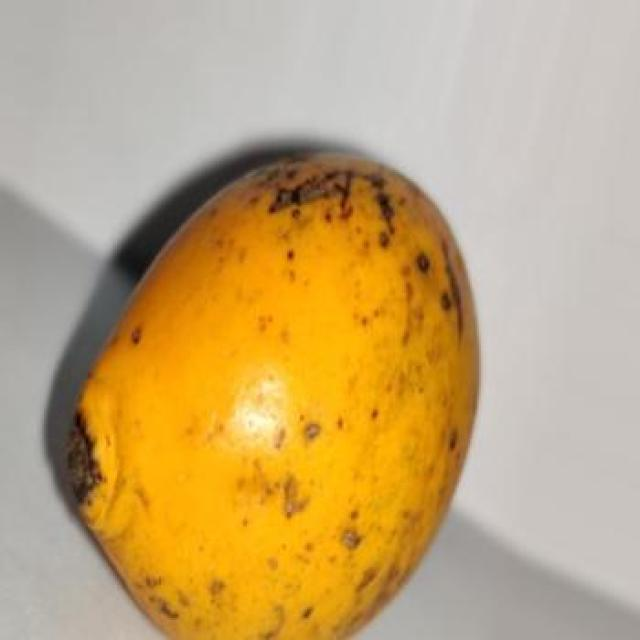good: (59, 154, 483, 638)
